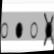correct: (14, 18, 23, 40)
no answer: (28, 18, 39, 40), (0, 20, 9, 40)
not correct: (38, 10, 54, 48)
